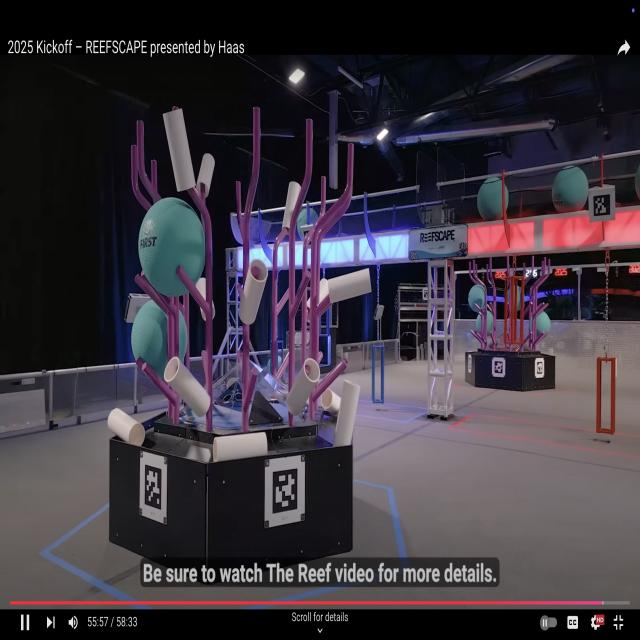algae: (138, 195, 207, 302), (130, 302, 194, 375), (546, 161, 593, 217), (476, 172, 512, 224), (464, 280, 492, 316), (474, 304, 496, 342), (528, 308, 552, 341)
coral: (162, 106, 204, 195), (159, 350, 216, 414), (234, 250, 270, 328), (284, 351, 320, 422), (285, 354, 323, 420), (238, 257, 270, 334), (210, 429, 272, 468), (323, 270, 384, 308), (334, 372, 360, 459), (106, 403, 152, 451), (193, 274, 221, 326), (195, 146, 220, 204), (282, 174, 301, 236), (321, 388, 341, 414)
